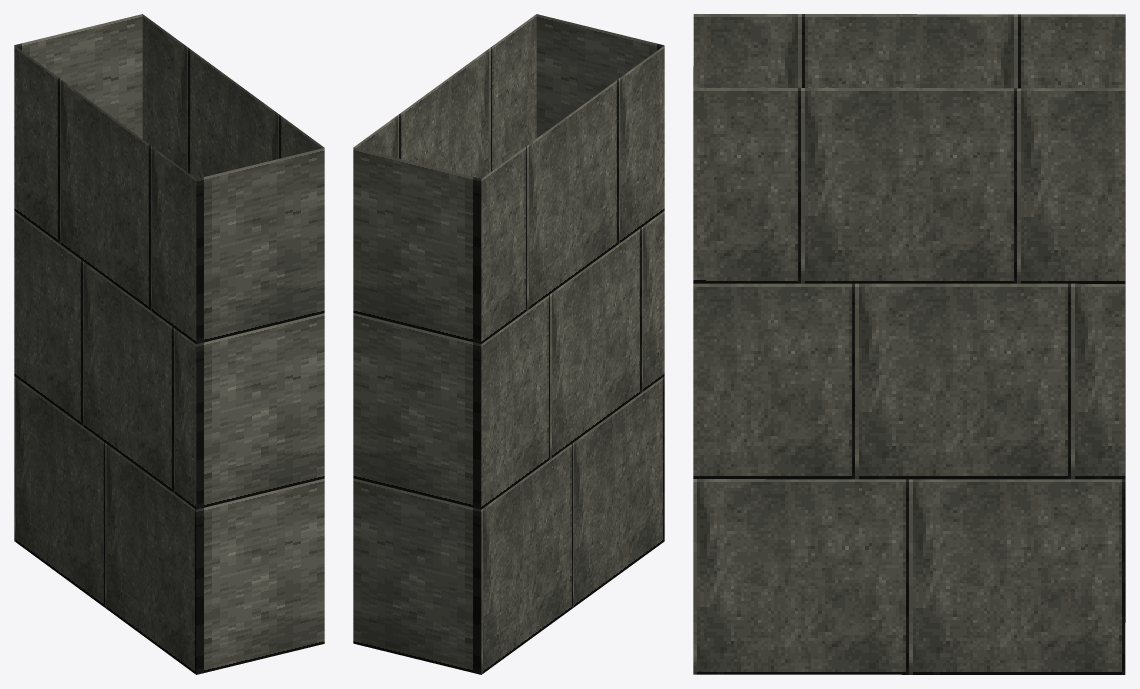
Rendered from aztec_stone_door_1.glb.
3 renders of one model, left to right at view 1: azimuth 30°, elevation 25°; view 2: azimuth 150°, elevation 25°; view 3: azimuth 270°, elevation 25°, orthographic. The views are drawn at different scales.
Visible parts, largest first — view 1: Object; view 2: Object; view 3: Object.
Part boxes in pixels (x1,y1,x2,y2): Object: (14,14,324,674); Object: (353,14,664,674); Object: (693,14,1125,674).
Size of the model in its own units: 0.6787 by 2.5 by 1.67.
2 materials, 2 textured.
